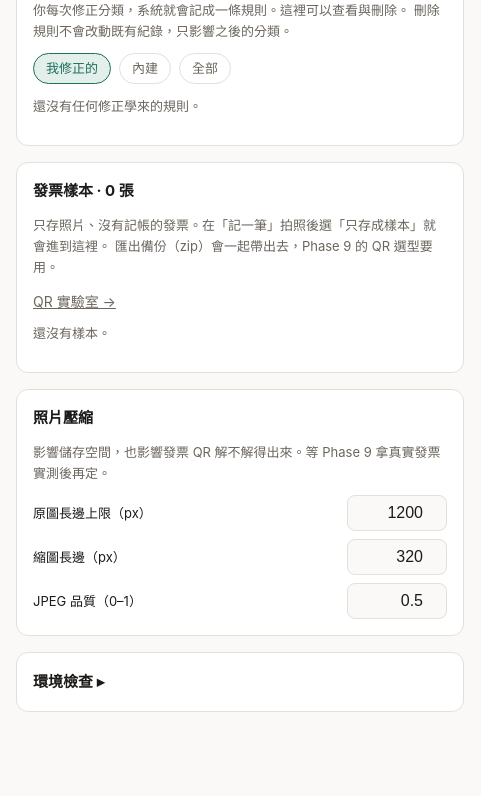
Test: 設定頁：既有行為 › 環境檢查顯示資料庫正常
This screenshot has width=481, height=796.
(page scrolled)
What coordinates should you click on to do the following:
click the button "環境檢查 ▸"
I would click on:
 (69, 682)
Its box is [33,670,104,694].
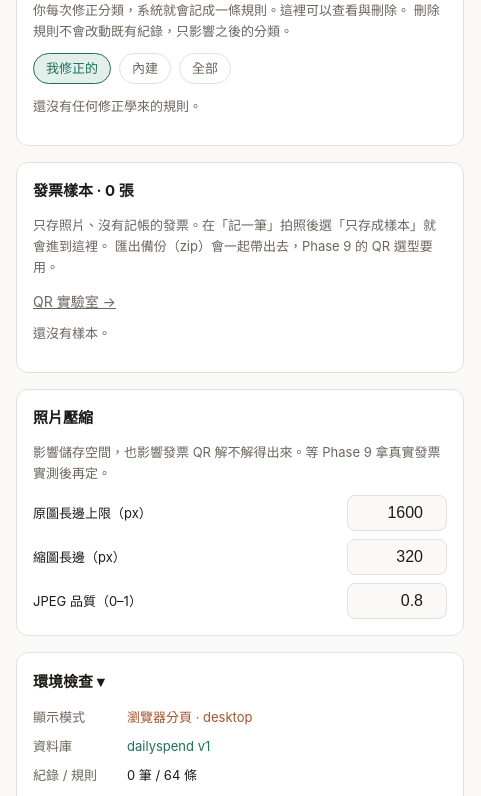
Check: the text "dailyspend v1" is shown, box [127,738,210,754]
